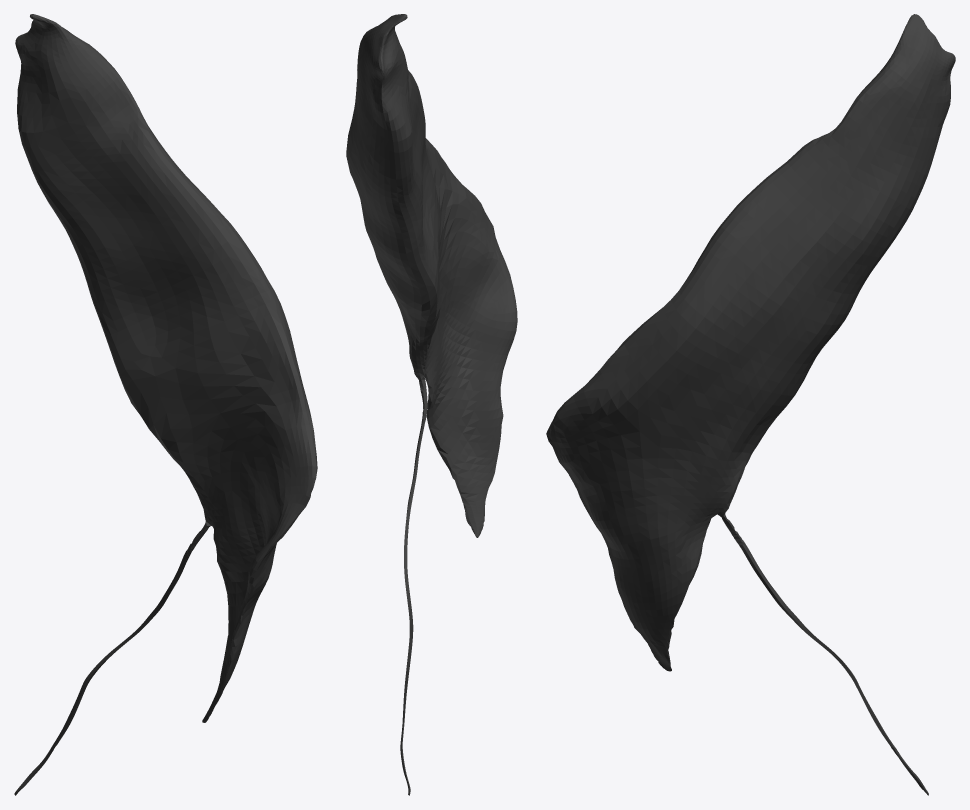
File: BicepsFemoris.glb
3 views of the same model, side by side, from view 1: azimuth 30°, elevation 25°; view 2: azimuth 150°, elevation 25°; view 3: azimuth 270°, elevation 25° (orthographic).
Parts seen in each view (by area): view 1: BicepsFemoris; view 2: BicepsFemoris; view 3: BicepsFemoris.
Boxes of the visible parts, box(x1,y1,x2,y2) form: BicepsFemoris: box(14, 14, 317, 795); BicepsFemoris: box(346, 14, 517, 795); BicepsFemoris: box(546, 14, 955, 795).
Size of the model in its own units: 2.86 by 14.43 by 6.81.
Materials: 1 (1 with a texture image).
